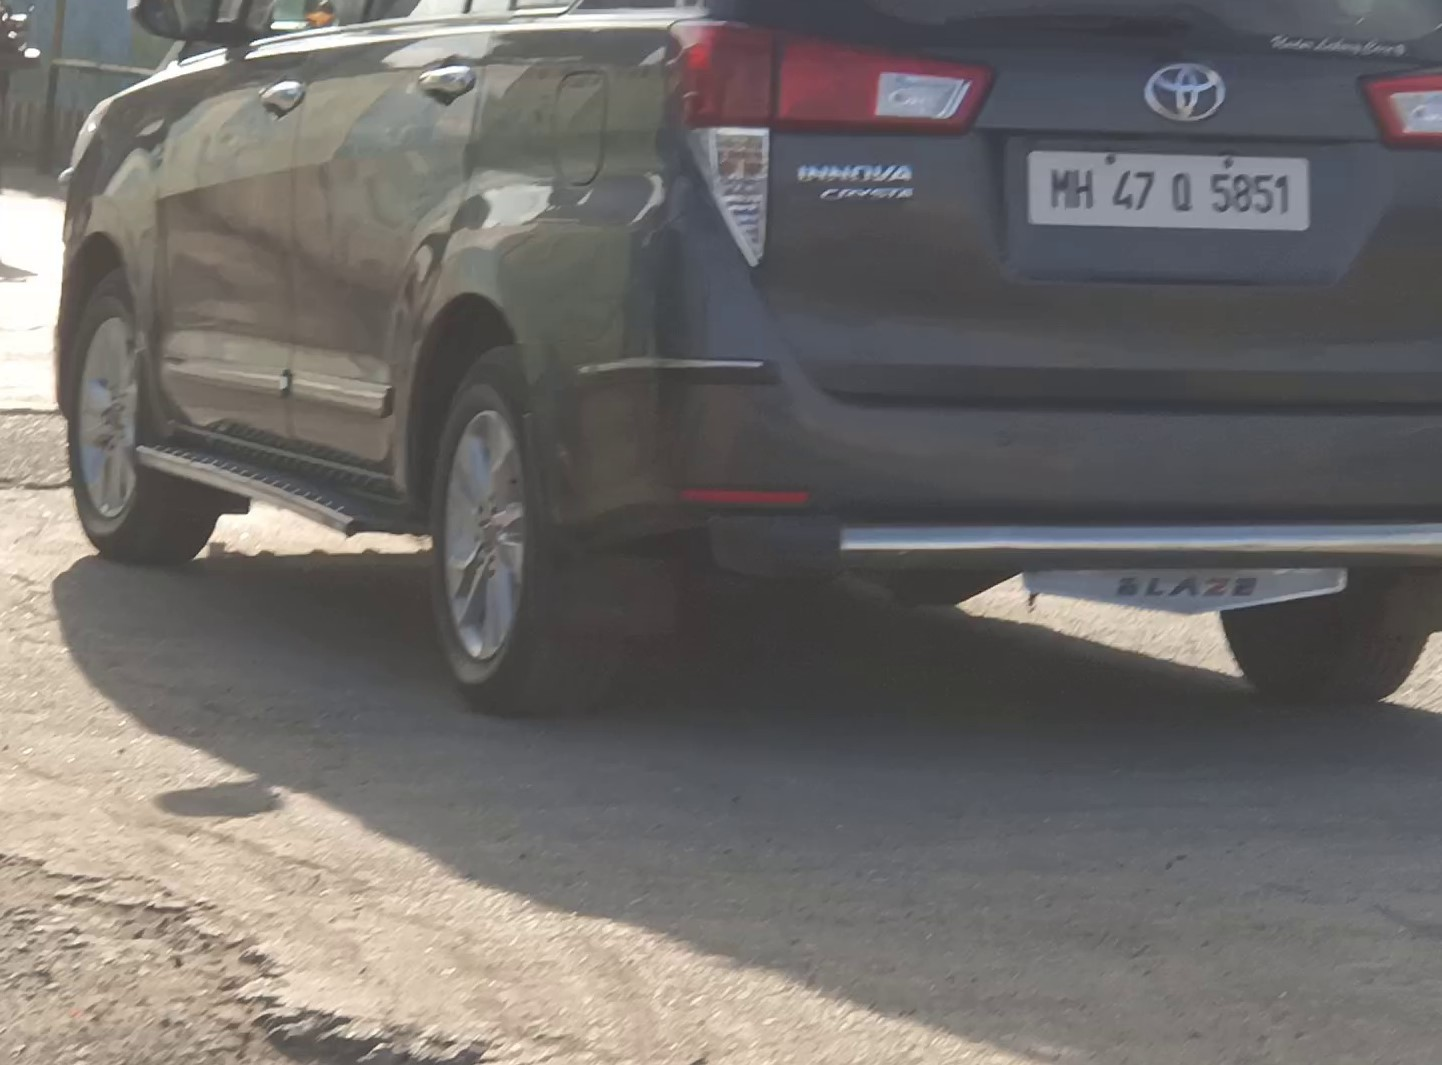MH4705851: (1025, 151, 1312, 232)
